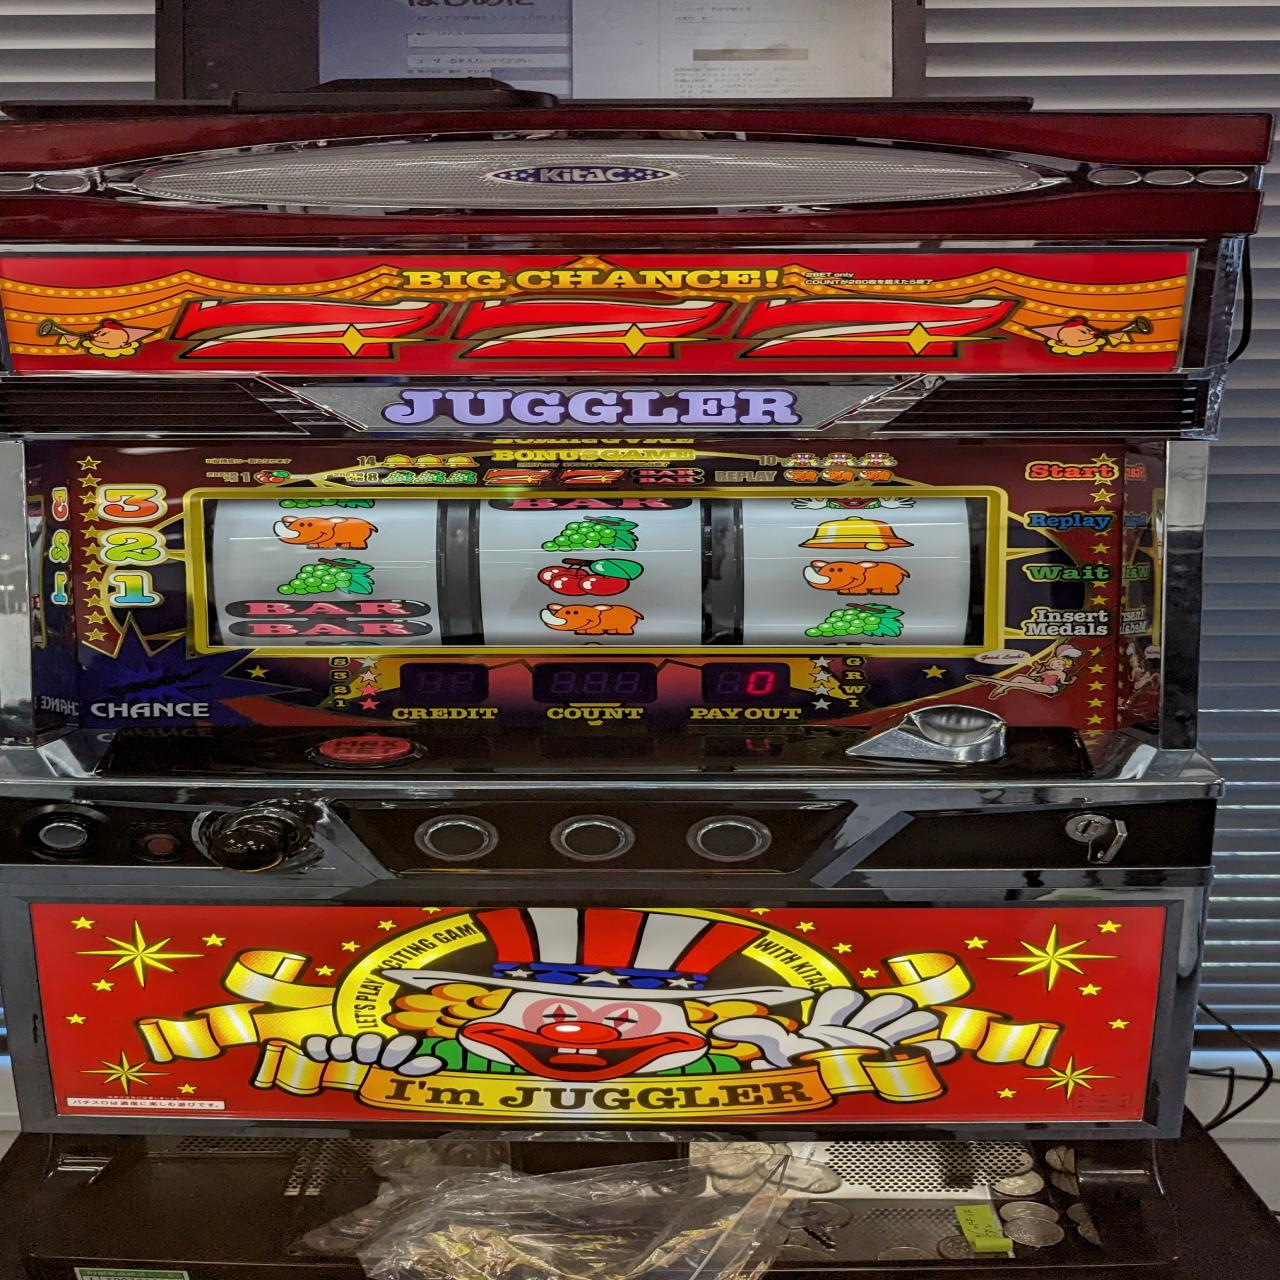8: (797, 557, 917, 595), (536, 601, 652, 640), (270, 512, 382, 552)
Display: (202, 490, 992, 647)
bar: (224, 597, 436, 639)
bell: (792, 513, 920, 552)
cherry: (533, 556, 646, 601)
grape: (798, 599, 911, 641), (533, 513, 645, 556), (273, 556, 381, 595)
